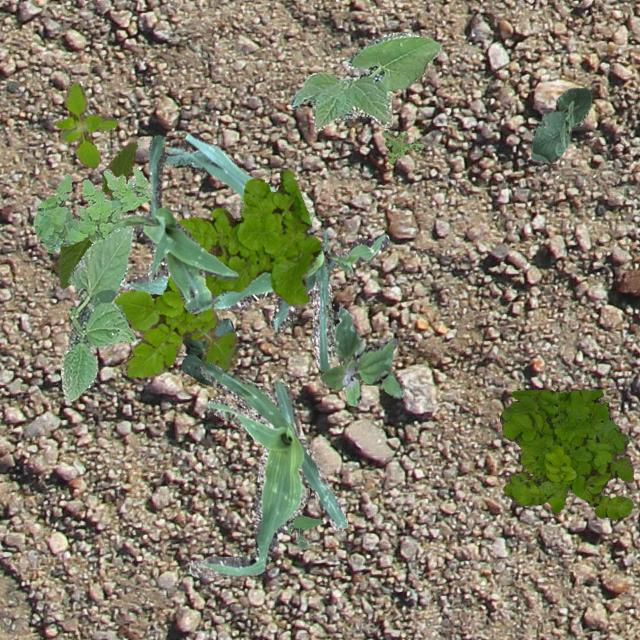crop: (122, 132, 388, 372), (188, 362, 346, 576), (108, 134, 236, 312), (290, 32, 440, 128), (59, 224, 134, 400), (54, 140, 136, 288), (530, 86, 590, 162), (180, 318, 233, 384)
weed: (114, 166, 320, 376), (498, 388, 632, 520), (32, 166, 150, 252), (320, 306, 404, 406), (54, 82, 116, 166), (380, 130, 422, 162), (284, 514, 322, 548)
